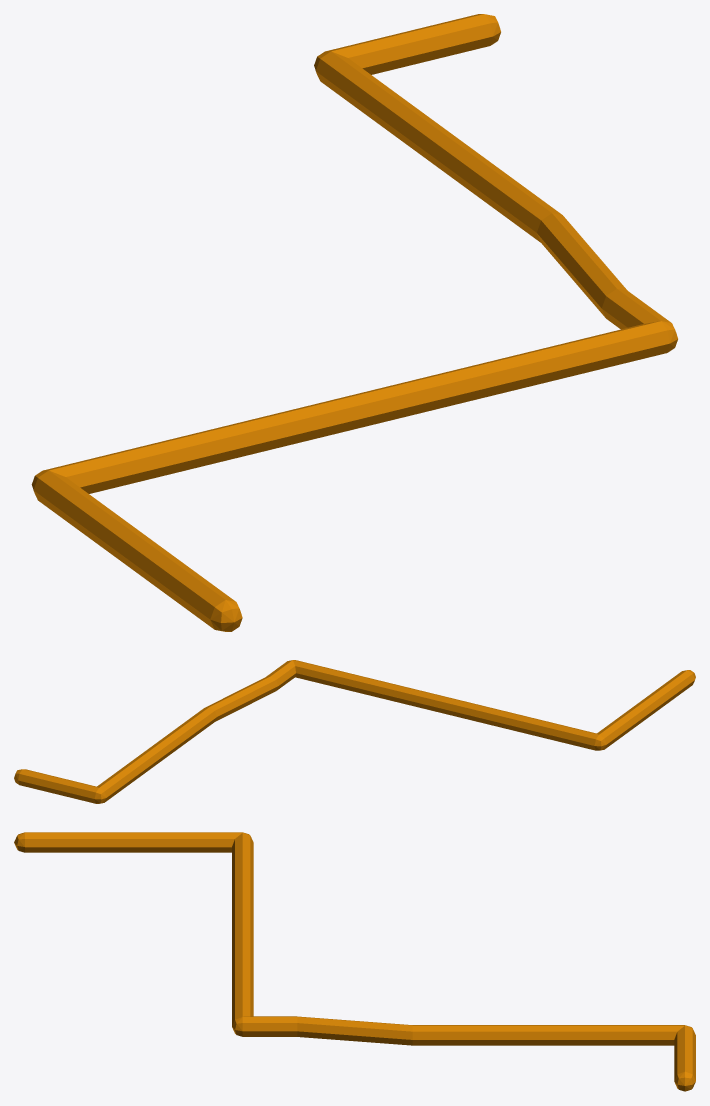
3 views of the same model, one above another, from view 1: azimuth 30°, elevation 25°; view 2: azimuth 150°, elevation 25°; view 3: azimuth 270°, elevation 25° (orthographic). The views are drawn at different scales.
Bounding box in the file's own units: 539 × 20 × 626.
